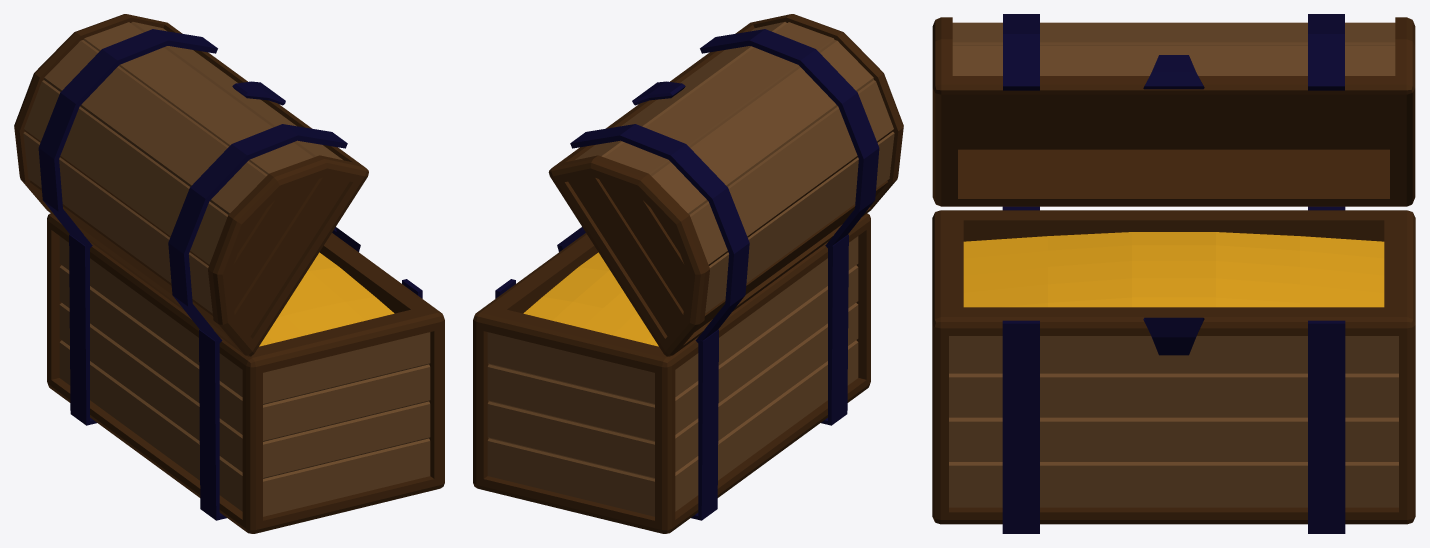
The model's file is treasureChest.fbx.
3 renders of one model, left to right at view 1: azimuth 30°, elevation 25°; view 2: azimuth 150°, elevation 25°; view 3: azimuth 270°, elevation 25°, orthographic. The views are drawn at different scales.
Visible parts, largest first — view 1: Cube.006, Cylinder.003; view 2: Cube.006, Cylinder.003; view 3: Cube.006, Cylinder.003.
Boxes of the visible parts, box(x1,y1,x2,y2) form: Cube.006: box(47, 213, 444, 533); Cylinder.003: box(14, 14, 368, 356); Cube.006: box(473, 213, 870, 533); Cylinder.003: box(548, 14, 903, 356); Cube.006: box(932, 207, 1415, 533); Cylinder.003: box(932, 14, 1415, 210).
Bounding box in the file's own units: 3.85 × 5.62 × 5.74.
